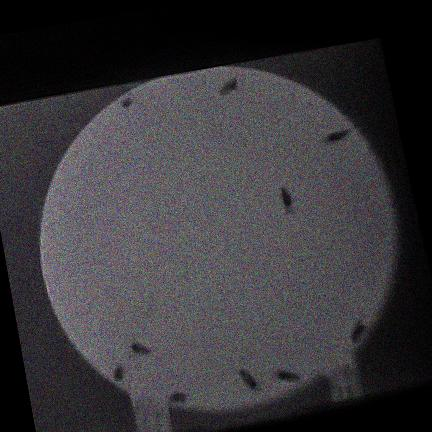fly: (322, 128, 349, 143), (239, 368, 257, 388), (351, 318, 366, 341), (280, 186, 293, 210), (221, 76, 238, 94), (276, 369, 299, 381), (130, 342, 150, 354), (169, 391, 186, 403), (113, 364, 124, 380), (121, 95, 132, 106)
